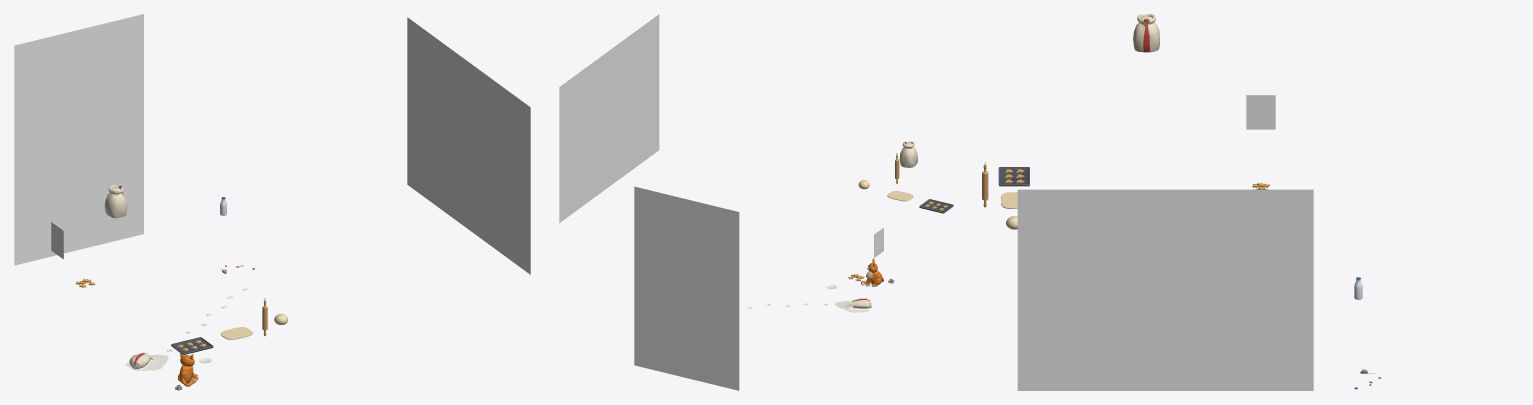
Rendered from room_live_d.glb.
The picture shows the model from 3 angles, left to right: view 1: azimuth 30°, elevation 25°; view 2: azimuth 150°, elevation 25°; view 3: azimuth 270°, elevation 25°; orthographic projection. The views are drawn at different scales.
Visible parts, largest first — view 1: backdrop_n, backdrop_e, flour_sack; view 2: backdrop_n, backdrop_e, flour_sack; view 3: backdrop_e, recipe_card, flour_sack, tray.
Part boxes in pixels (x1,y1,x2,y2): backdrop_n: (14, 14, 143, 265); backdrop_e: (407, 17, 530, 274); flour_sack: (104, 185, 127, 218); backdrop_n: (634, 186, 739, 390); backdrop_e: (559, 14, 659, 222); flour_sack: (899, 141, 917, 167); backdrop_e: (1017, 189, 1313, 390); recipe_card: (1246, 95, 1275, 129); flour_sack: (1133, 14, 1159, 52); tray: (998, 167, 1029, 186).
Bounding box in the file's own units: 4.6 × 2.79 × 4.79.
21 materials, 2 textured.
